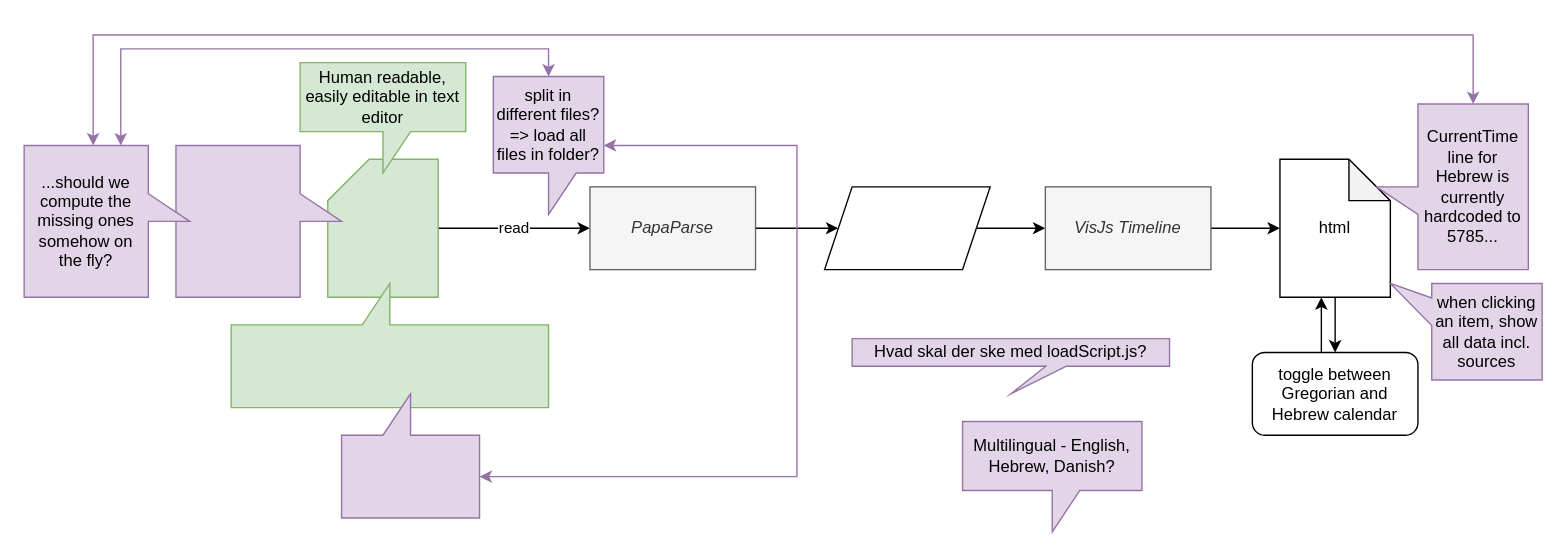
Some shapes in this 1566 by 556 pixel diagram are drawn without their labels. The shapes that lost their labels are listed below. From the top down, each one's box as (x1, y1, x2, y2) in pixels, then its label:
(175, 144, 342, 297): currently, both Gregorian and Hebrew timestamps are expected in this file
(326, 158, 438, 297): Data file .csv
(823, 185, 990, 270): JS object
(230, 282, 549, 408): Data points: Timestamp OR Start- and End- [year] Label [string]
(340, 392, 480, 518): To Do: add some way to group (Event, Person, etc.)
